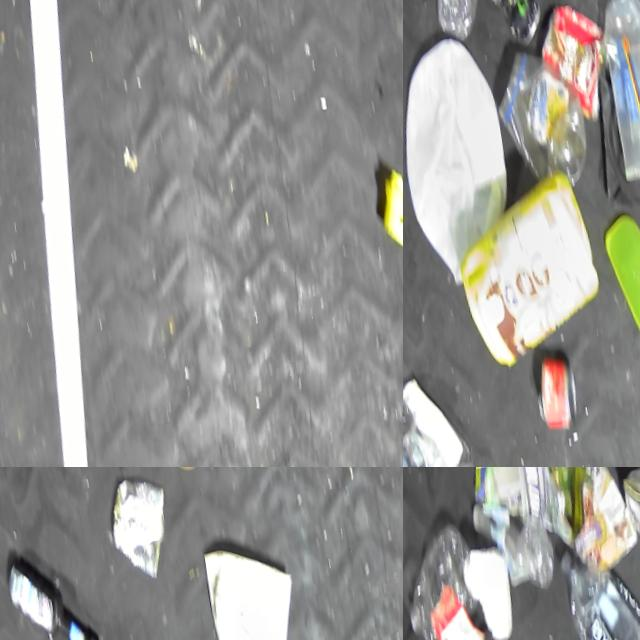can: (530, 0, 618, 130), (103, 472, 179, 588), (534, 348, 585, 434), (477, 0, 546, 56), (619, 467, 640, 547)
milk_jug: (403, 29, 528, 294)
non_white_jug: (443, 166, 613, 376)
plastic_bottle: (403, 517, 487, 640), (467, 490, 560, 599), (403, 367, 502, 467), (552, 535, 640, 640), (430, 0, 505, 47)
